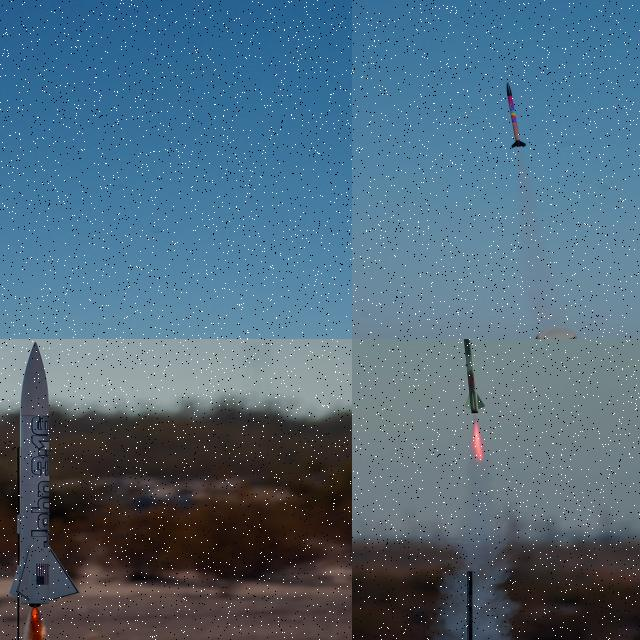Rocket: (7, 341, 83, 607), (459, 339, 485, 414), (506, 82, 527, 148)
